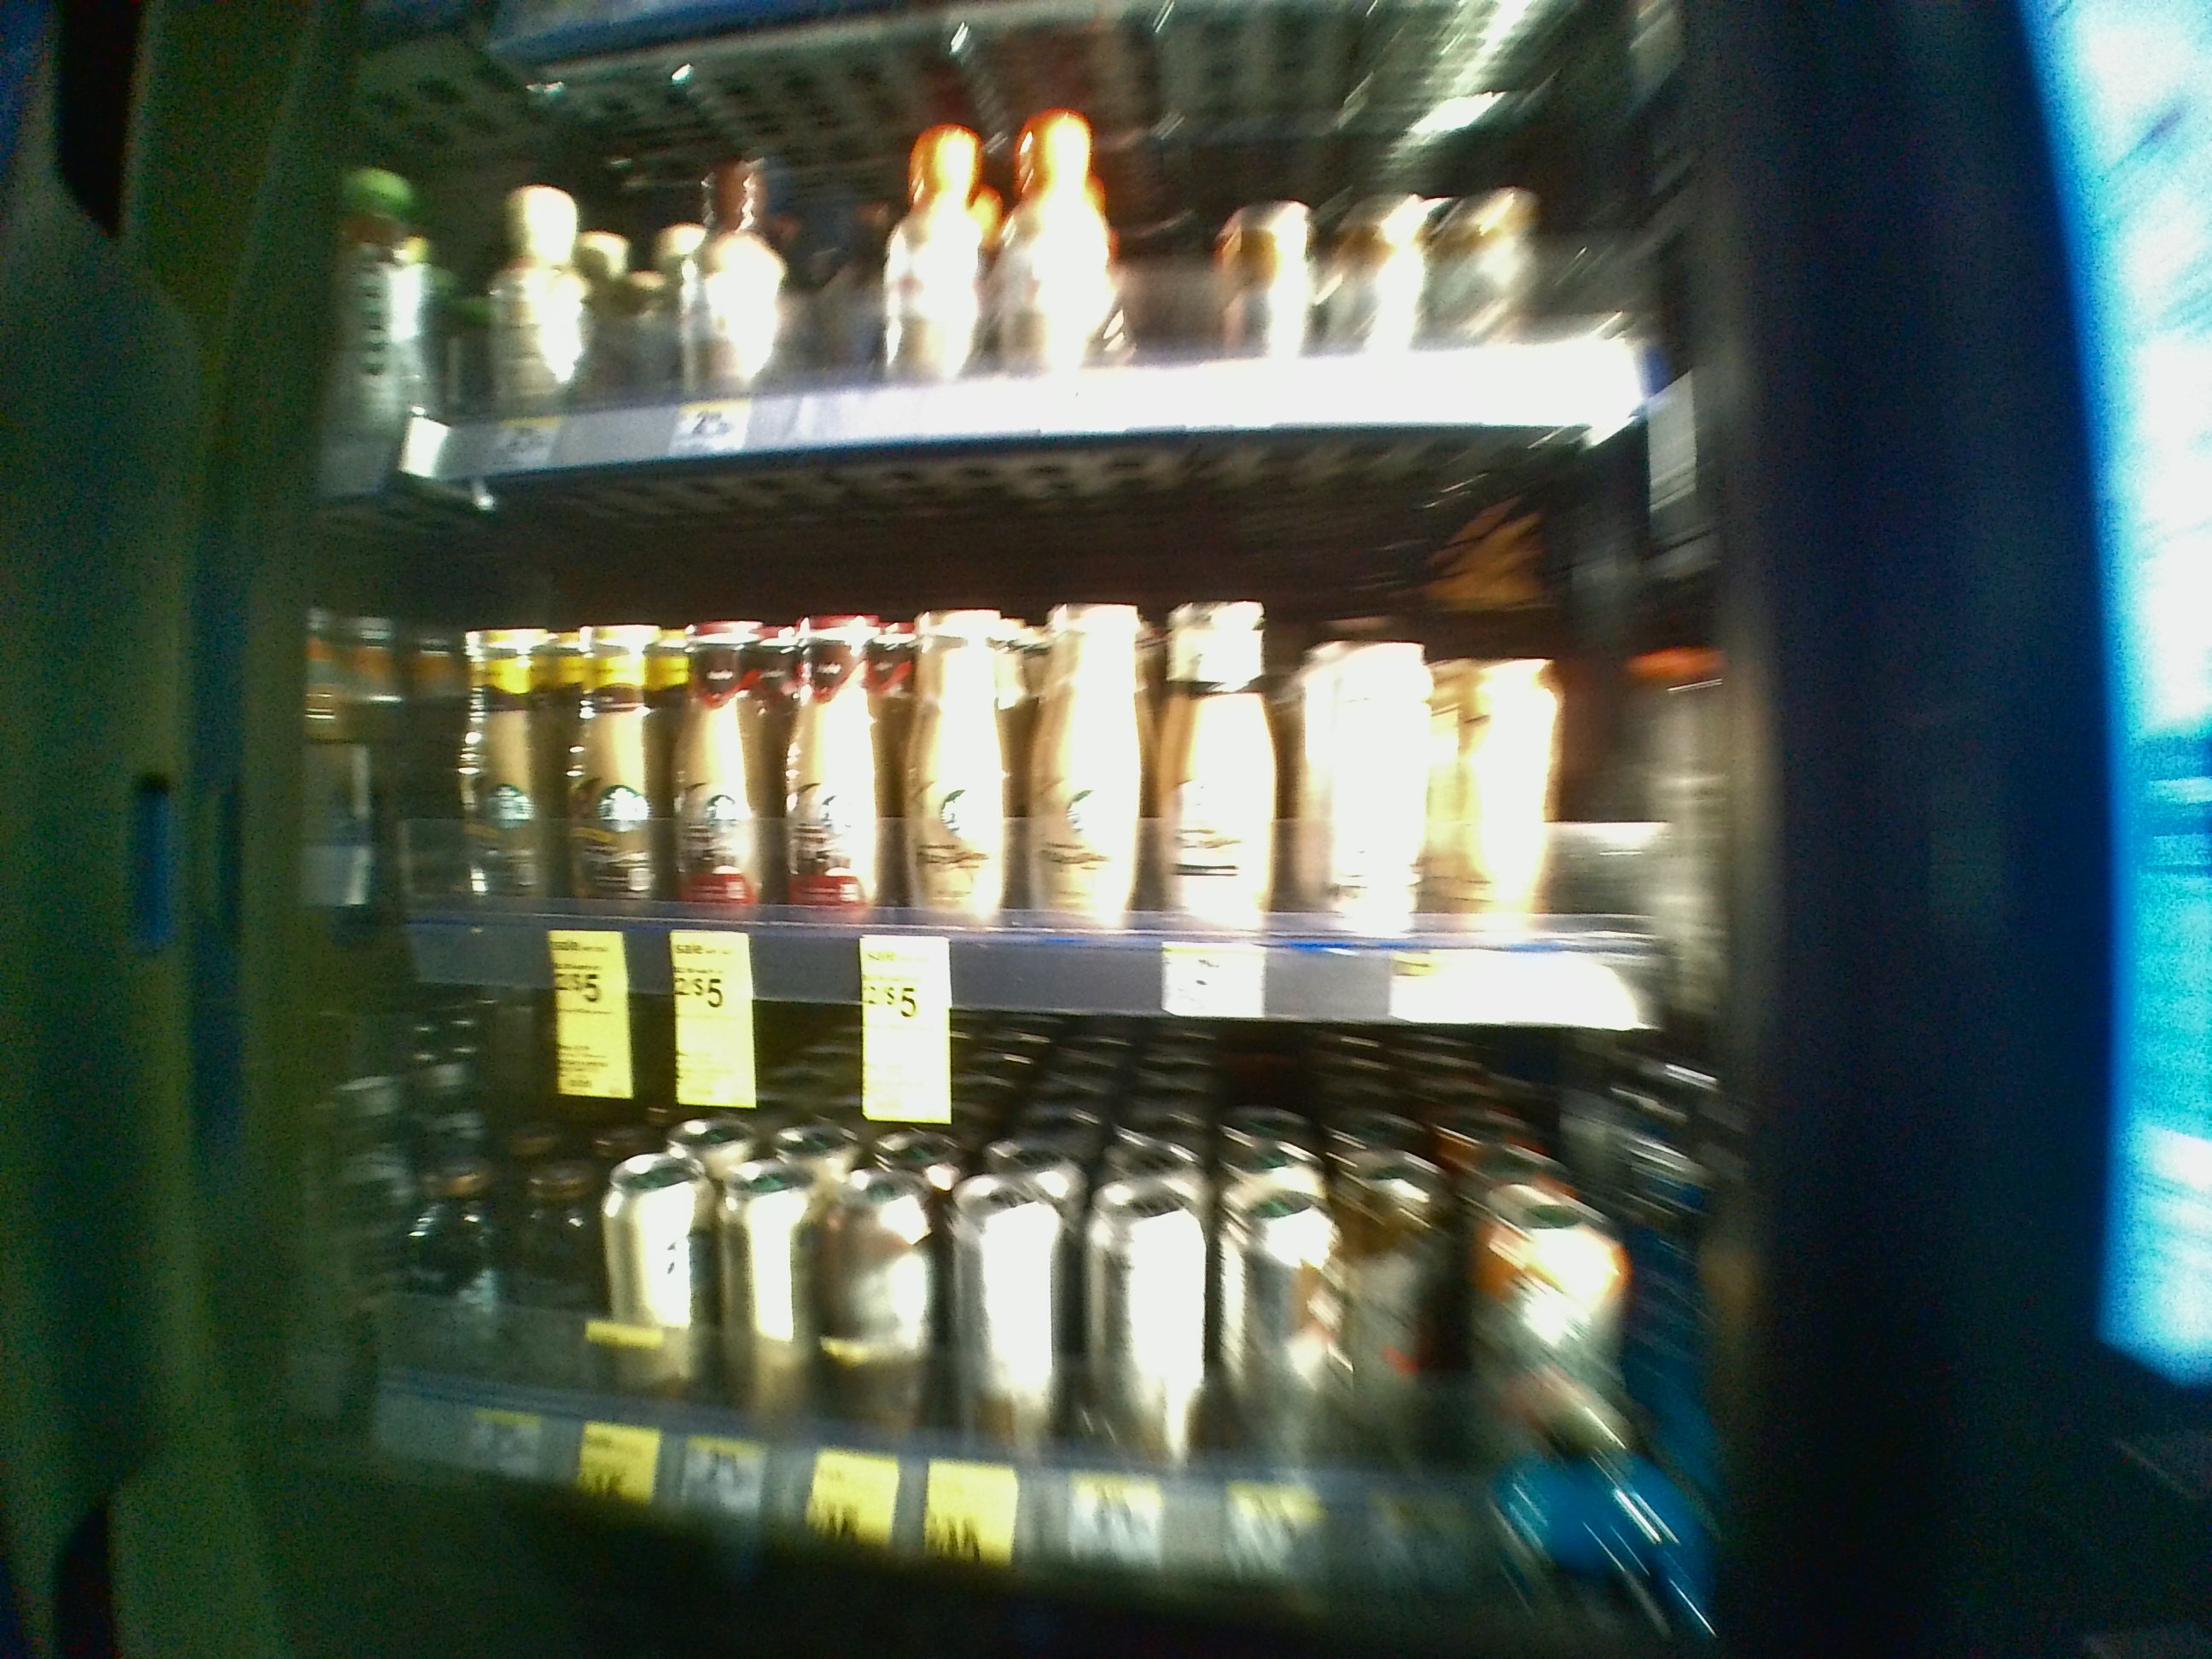shelf: (340, 469, 1766, 1009)
